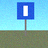sign: (17, 2, 34, 36)
